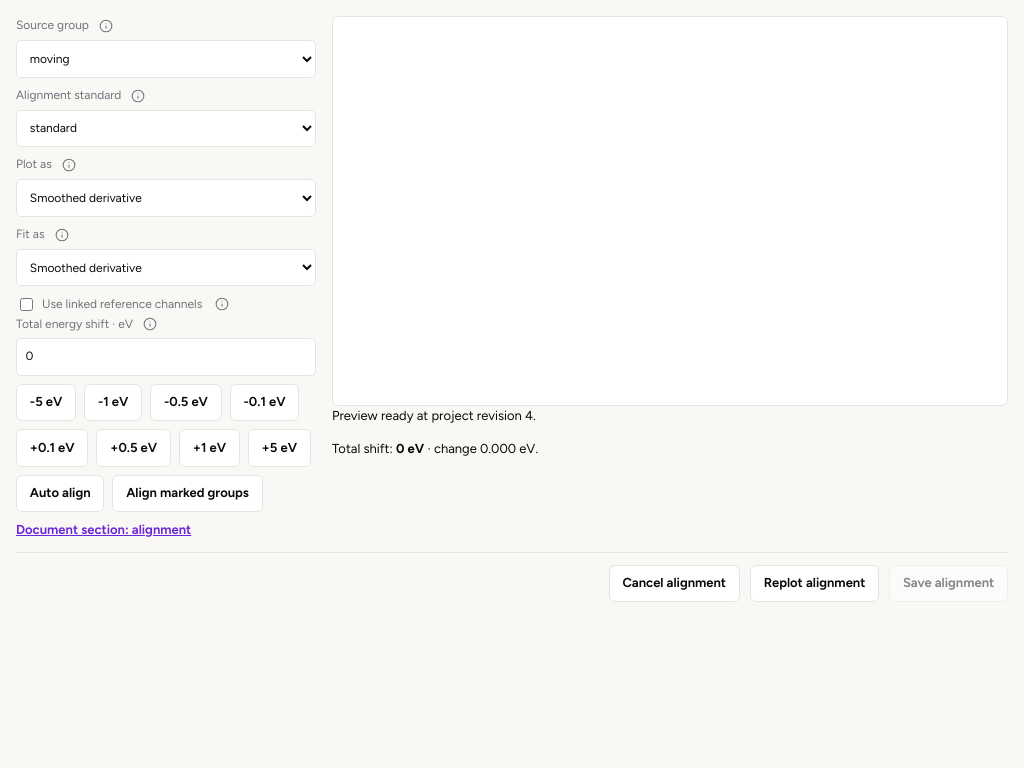
Test: includes marked groups and reports the fixed standard skip
The image size is (1024, 768).
Expected: the text "Preview ready at project revision 4." is shown, [332,408,536,423]
What coordinates should you click on to do the following:
click the button "Align marked groups"
I would click on:
 (188, 494)
Its box is [112,475,263,512].
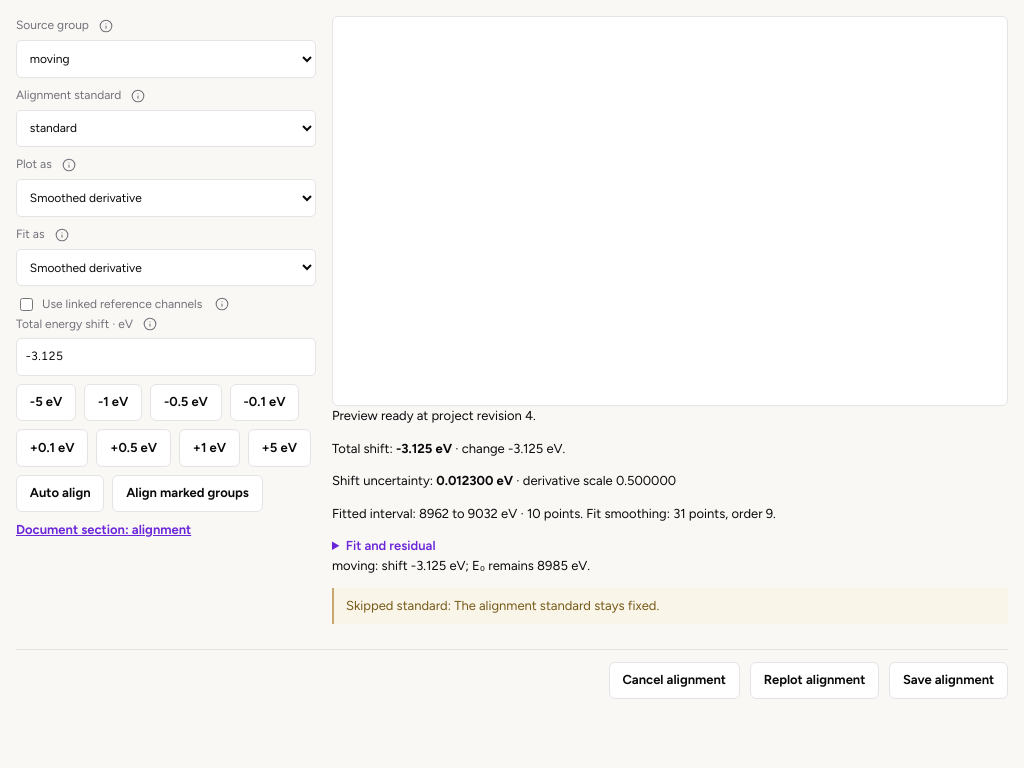
Expected: the text "Preview ready at project revision 4." is shown, [332,408,536,423]
Expected: the text "Skipped standard: The alignment standard stays fixed." is shown, [332,588,1008,624]
